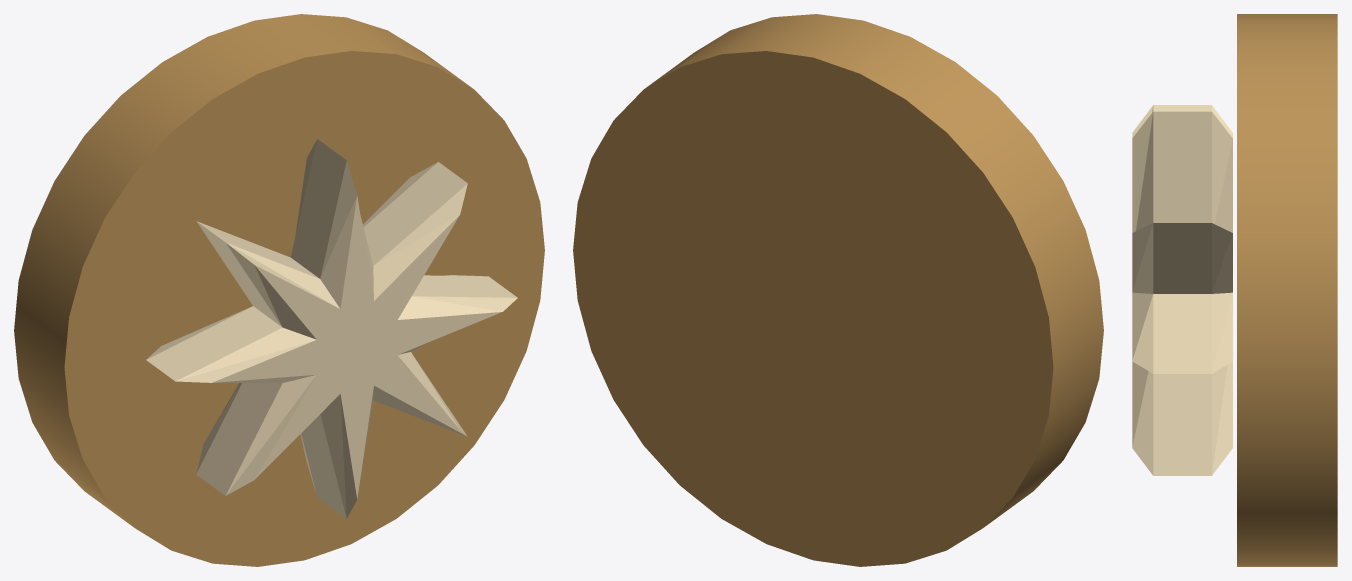
File: token.glb
The picture shows the model from 3 angles, left to right: view 1: azimuth 30°, elevation 25°; view 2: azimuth 150°, elevation 25°; view 3: azimuth 270°, elevation 25°; orthographic projection.
Visible parts, largest first — view 1: coin, symbol; view 2: coin; view 3: coin, symbol.
Part boxes in pixels (bbox=[...]): coin: bbox=[14, 14, 544, 566]; symbol: bbox=[146, 139, 517, 518]; coin: bbox=[573, 14, 1103, 566]; coin: bbox=[1237, 14, 1337, 566]; symbol: bbox=[1132, 105, 1232, 475].
Size of the model in its own units: 0.66 by 0.66 by 0.245.
